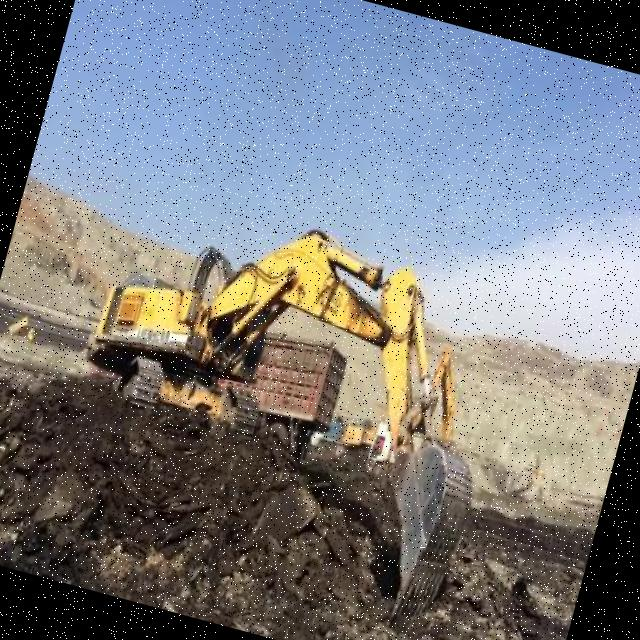Dump Truck: (237, 318, 356, 468), (4, 310, 36, 342)
Excavator: (40, 177, 546, 633)
